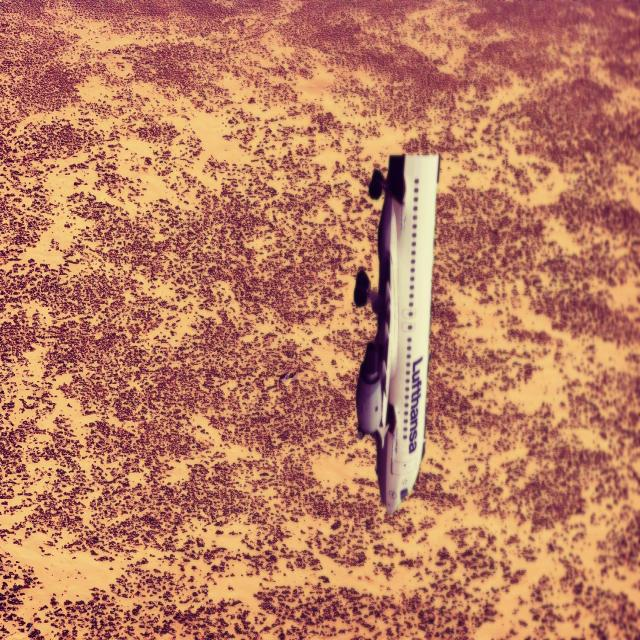airplane: (353, 152, 440, 515)
